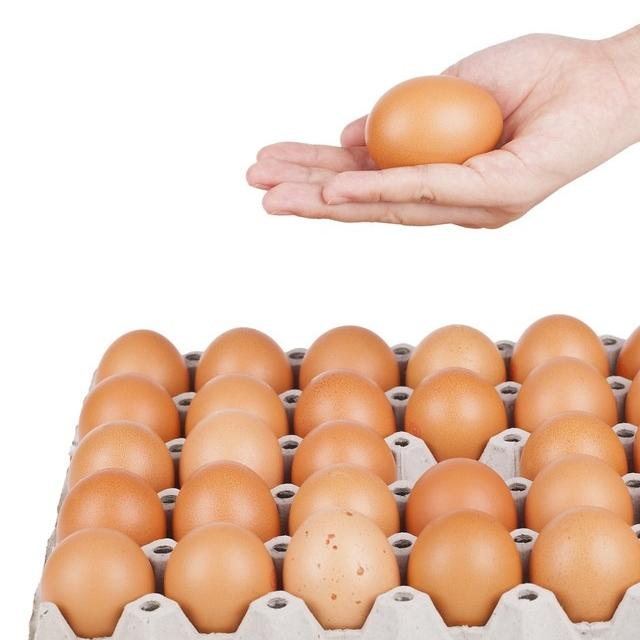egg: (282, 506, 400, 628), (406, 508, 522, 626), (528, 505, 640, 621), (365, 74, 503, 168), (40, 526, 155, 638), (163, 520, 277, 632), (403, 366, 507, 461), (405, 456, 517, 536), (171, 460, 280, 542), (524, 452, 634, 532), (56, 468, 166, 546), (93, 328, 189, 396), (616, 311, 640, 379)
